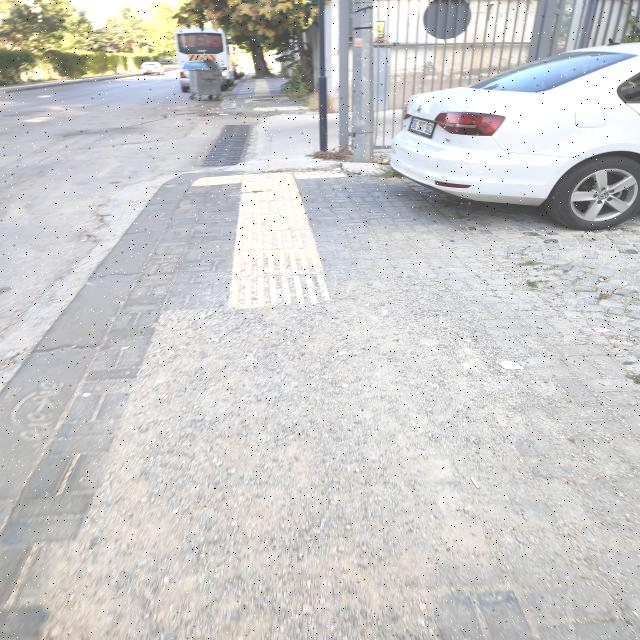sidewalk: (3, 172, 637, 640)
